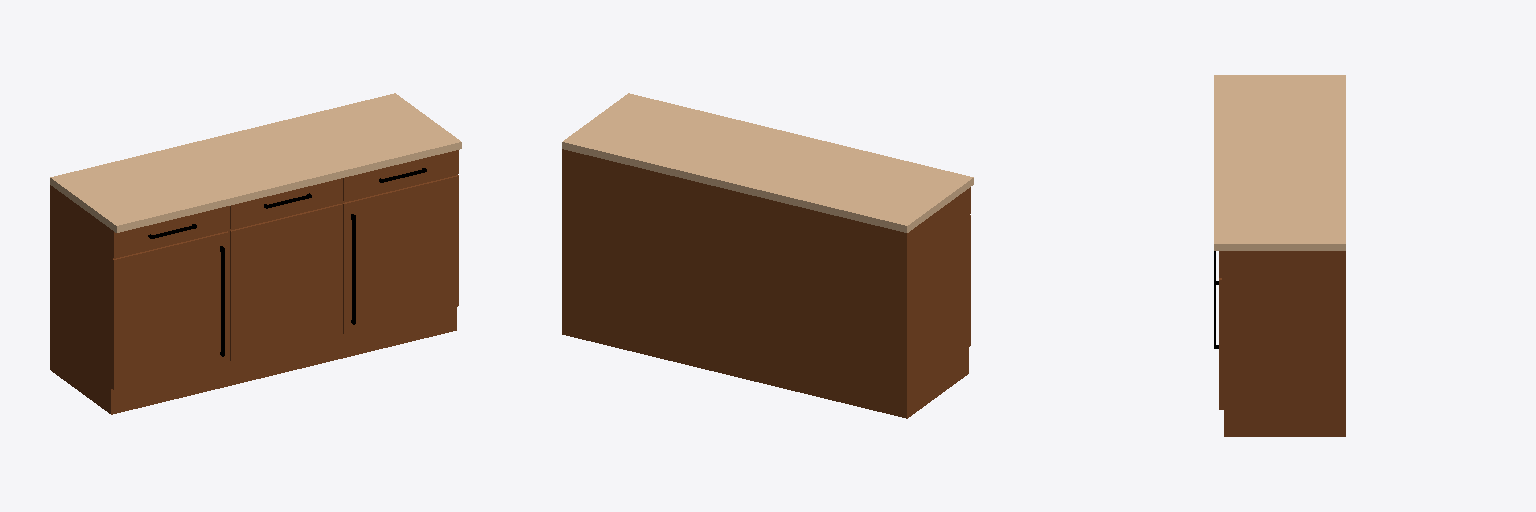
3 renders of one model, left to right at view 1: azimuth 30°, elevation 25°; view 2: azimuth 150°, elevation 25°; view 3: azimuth 270°, elevation 25°, orthographic.
Parts seen in each view (by area): view 1: object 1; view 2: object 1; view 3: object 1.
Boxes of the visible parts, x1=… form: object 1: x1=50, y1=93, x2=461, y2=414; object 1: x1=562, y1=93, x2=973, y2=418; object 1: x1=1214, y1=75, x2=1345, y2=436.
Size of the model in its own units: 15 by 8 by 5.
1 materials, 1 textured.